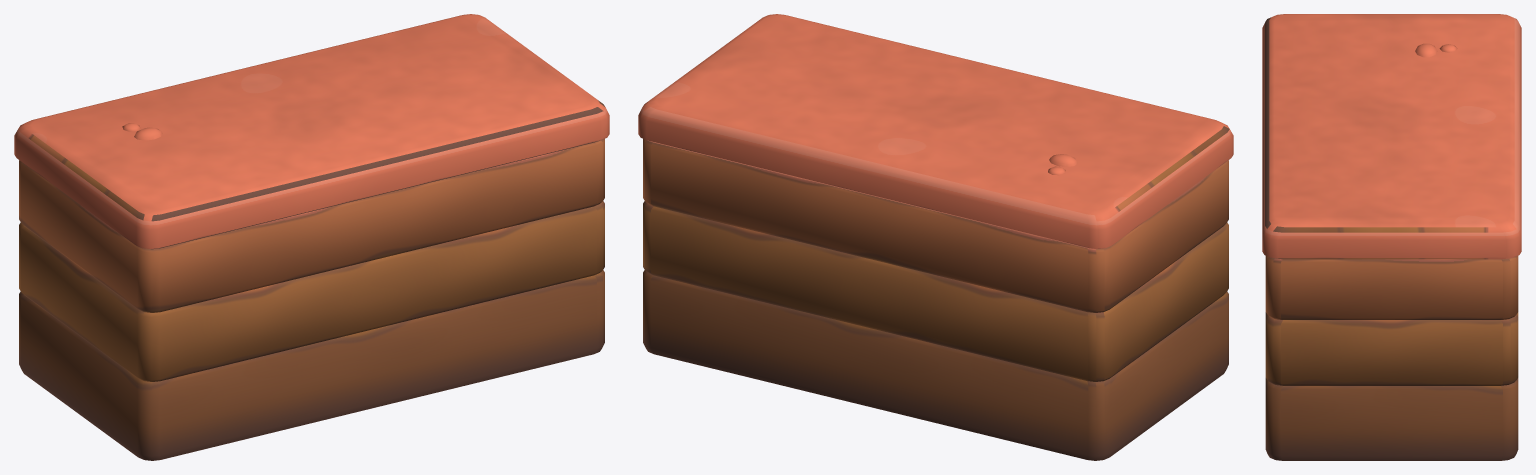
Rendered from cover_straight_2.glb.
3 views of the same model, side by side, from view 1: azimuth 30°, elevation 25°; view 2: azimuth 150°, elevation 25°; view 3: azimuth 270°, elevation 25° (orthographic). The views are drawn at different scales.
Visible parts, largest first — view 1: cover_straight_2; view 2: cover_straight_2; view 3: cover_straight_2.
Part boxes in pixels (box(x1,y1,x2,y2)): cover_straight_2: box(14, 14, 609, 460); cover_straight_2: box(638, 14, 1233, 460); cover_straight_2: box(1262, 14, 1521, 460).
Bounding box in the file's own units: 2 × 1.02 × 1.
Materials: 2 (2 with a texture image).
